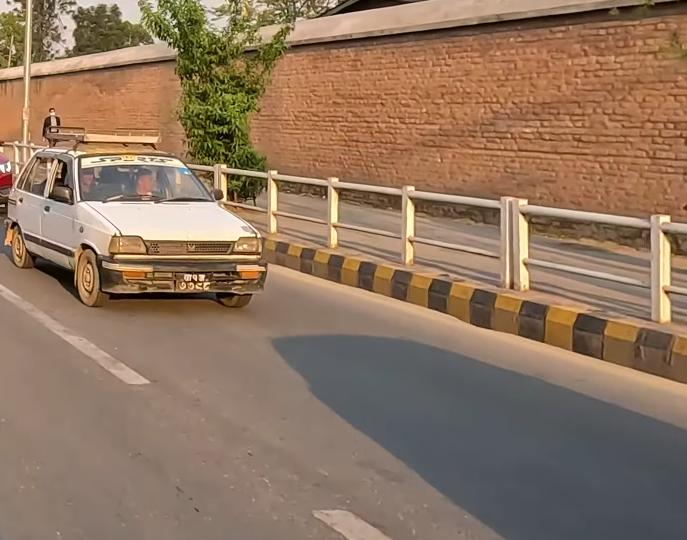taxi: (2, 122, 282, 316)
